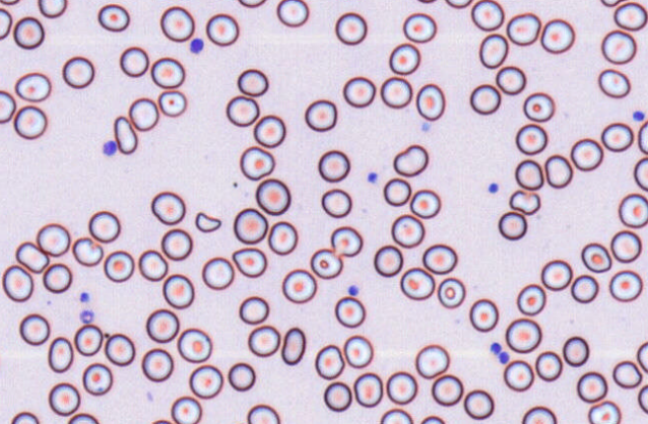PLT: (101, 139, 118, 157), (189, 37, 205, 55), (79, 310, 95, 324), (487, 181, 500, 196), (489, 342, 502, 356), (497, 351, 511, 364), (633, 110, 647, 123), (79, 290, 91, 304), (347, 285, 360, 296), (368, 171, 379, 183), (420, 122, 429, 132)
RBC: (505, 317, 541, 353), (233, 207, 268, 244), (255, 178, 290, 215), (159, 5, 194, 41), (177, 327, 212, 362), (281, 268, 316, 303), (239, 145, 274, 180), (540, 18, 575, 53), (601, 29, 636, 64), (1, 264, 33, 302), (145, 308, 179, 343), (189, 364, 223, 399), (150, 190, 185, 224), (415, 344, 449, 378), (36, 222, 70, 256), (13, 105, 47, 139), (399, 267, 434, 300), (15, 240, 49, 273), (506, 12, 540, 45), (608, 269, 642, 302), (334, 11, 367, 45), (570, 137, 603, 171), (205, 13, 239, 46), (162, 273, 194, 308), (141, 347, 173, 382), (393, 144, 428, 176), (231, 246, 267, 277), (415, 83, 445, 120), (391, 214, 424, 247), (247, 324, 280, 357), (317, 149, 350, 182), (201, 256, 234, 289), (48, 382, 80, 416), (225, 94, 259, 126), (422, 243, 457, 274), (267, 220, 298, 255), (150, 57, 185, 88), (14, 72, 51, 101), (385, 371, 417, 404), (610, 229, 642, 262), (88, 210, 120, 243), (253, 114, 285, 147), (304, 99, 337, 131), (62, 55, 94, 88), (104, 332, 135, 366), (470, 0, 504, 31), (402, 12, 436, 43), (128, 97, 159, 131), (314, 344, 344, 379), (353, 372, 383, 407), (618, 193, 648, 228), (478, 33, 508, 68), (431, 374, 463, 406), (160, 228, 192, 260), (388, 42, 420, 74), (380, 76, 412, 108), (13, 16, 44, 49), (342, 76, 375, 107), (343, 334, 373, 368), (310, 248, 342, 279), (330, 225, 362, 256), (503, 359, 534, 391), (334, 295, 365, 327), (103, 250, 134, 282), (19, 313, 50, 345), (515, 123, 547, 154), (540, 259, 572, 290), (522, 91, 554, 122), (469, 83, 501, 114), (82, 362, 112, 395), (544, 154, 573, 188), (469, 298, 498, 332), (613, 1, 647, 30), (576, 371, 607, 402), (373, 244, 403, 276), (138, 249, 168, 281), (516, 283, 546, 315), (598, 68, 630, 98), (601, 122, 633, 152), (74, 323, 103, 356), (47, 336, 73, 372), (72, 236, 103, 266), (463, 389, 494, 419), (42, 262, 72, 293), (409, 188, 440, 218), (119, 46, 149, 77), (170, 395, 202, 424), (581, 242, 611, 272), (238, 295, 269, 324), (514, 159, 543, 190), (495, 65, 526, 94), (236, 68, 268, 96), (97, 3, 129, 31), (276, 0, 309, 27), (323, 381, 352, 411), (321, 188, 351, 217), (498, 210, 527, 240), (437, 277, 465, 308), (570, 274, 599, 303), (612, 360, 642, 388), (562, 335, 589, 366), (535, 350, 562, 381), (227, 362, 255, 391), (383, 177, 411, 206), (157, 89, 186, 117), (587, 400, 621, 423), (246, 403, 280, 423), (521, 405, 556, 423), (0, 89, 16, 123), (37, 0, 67, 18), (633, 156, 648, 191), (379, 408, 412, 423), (0, 7, 12, 40), (637, 119, 648, 154), (636, 341, 648, 373), (67, 412, 99, 423), (10, 411, 39, 423), (637, 384, 648, 413), (237, 0, 267, 8), (444, 0, 472, 8), (419, 415, 445, 423), (599, 0, 624, 6), (150, 419, 173, 424), (0, 0, 20, 5), (228, 420, 248, 424), (415, 0, 438, 3), (0, 348, 2, 377)
Schistocyte: (282, 326, 306, 366), (115, 116, 137, 154), (510, 190, 541, 215), (195, 212, 223, 232)
